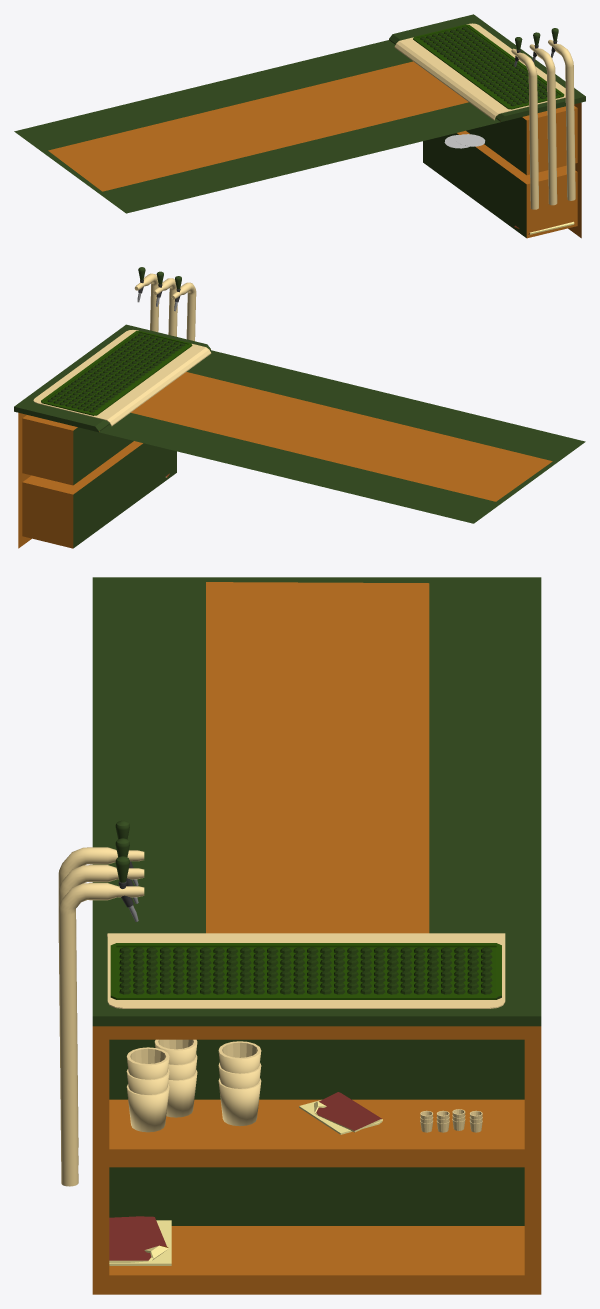
The model's file is Table_whith_green_color.FBX.
3 views of the same model, one above another, from view 1: azimuth 30°, elevation 25°; view 2: azimuth 150°, elevation 25°; view 3: azimuth 270°, elevation 25° (orthographic). The views are drawn at different scales.
Visible parts, largest first — view 1: stol, bigpodstavka, skatert, kran.000, kran.002, kran.001, Podstavkapodkrygky.002; view 2: stol, bigpodstavka, skatert, kran.001, kran.002, kran.000; view 3: stol, bigpodstavka, skatert, kran.002, Cylinder.002, stakan, Plane.001, Cylinder.001, tryapka, kran.000, kran.001.
Part boxes in pixels (x1,y1,x2,y2): stol: (14, 14, 585, 238); bigpodstavka: (413, 24, 564, 109); skatert: (394, 23, 565, 120); kran.000: (529, 32, 557, 205); kran.002: (548, 28, 575, 200); kran.001: (511, 37, 538, 209); Podstavkapodkrygky.002: (455, 134, 485, 146); stol: (14, 324, 585, 548); bigpodstavka: (41, 330, 192, 415); skatert: (33, 330, 211, 426); kran.001: (171, 276, 196, 341); kran.002: (134, 267, 159, 332); kran.000: (153, 271, 177, 336); stol: (92, 577, 541, 1294); bigpodstavka: (110, 943, 501, 999); skatert: (107, 933, 505, 1008); kran.002: (58, 856, 144, 1186); Cylinder.002: (218, 1041, 261, 1126); stakan: (126, 1047, 169, 1132); Plane.001: (109, 1216, 171, 1265); Cylinder.001: (154, 1039, 197, 1117); tryapka: (299, 1092, 382, 1134); kran.000: (58, 838, 144, 1164); kran.001: (58, 820, 144, 1147).
Bounding box in the file's own units: 7065 × 3074 × 3214.
